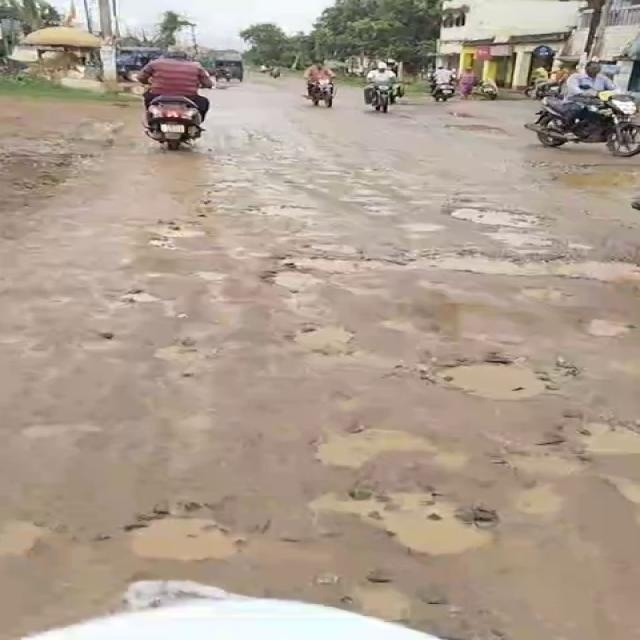pothole: (286, 251, 639, 284), (113, 516, 244, 568), (392, 494, 491, 561), (436, 367, 548, 401), (562, 416, 640, 455), (442, 203, 552, 229), (500, 448, 576, 482), (355, 424, 440, 452), (354, 582, 411, 621), (4, 517, 48, 564), (282, 326, 361, 352), (316, 496, 409, 518), (480, 232, 568, 254), (264, 266, 332, 292), (244, 202, 332, 222), (318, 440, 374, 470), (152, 342, 226, 364), (551, 171, 640, 189), (14, 421, 106, 438), (577, 317, 635, 343), (175, 319, 236, 342), (465, 332, 543, 349), (528, 488, 572, 518), (146, 222, 212, 242), (600, 474, 640, 506), (72, 336, 136, 354), (204, 287, 242, 317), (245, 226, 338, 238), (119, 290, 172, 310), (510, 290, 563, 310), (220, 245, 278, 263), (446, 122, 509, 138), (328, 397, 374, 418), (254, 184, 304, 203), (298, 242, 360, 257), (373, 320, 426, 337), (178, 412, 222, 432), (190, 268, 233, 286), (433, 450, 470, 470), (563, 237, 602, 254), (388, 222, 448, 233), (304, 165, 352, 178), (200, 180, 245, 193), (338, 196, 392, 206), (3, 330, 32, 348), (20, 347, 55, 360), (349, 188, 392, 198), (108, 254, 136, 268), (160, 310, 187, 322), (140, 272, 164, 280)
